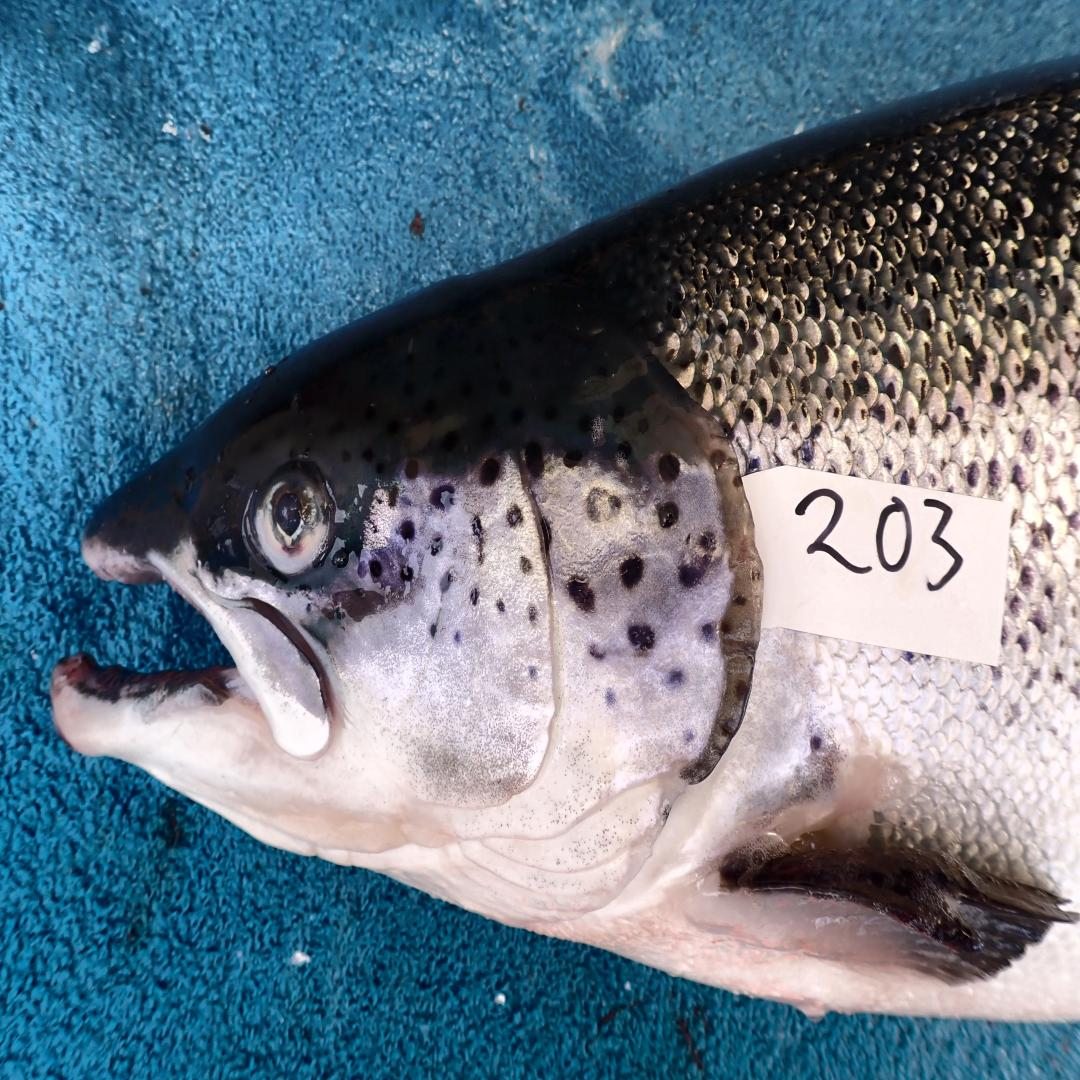spot: (586, 487, 622, 523), (567, 579, 595, 613), (626, 624, 656, 650), (620, 557, 643, 588), (525, 442, 544, 478), (658, 453, 679, 484), (471, 516, 484, 565), (479, 458, 500, 487), (430, 484, 454, 509), (679, 562, 702, 588), (658, 501, 679, 529), (506, 503, 523, 526), (542, 518, 553, 551), (399, 520, 416, 540), (563, 450, 582, 467), (589, 641, 605, 661), (699, 532, 715, 552), (405, 458, 420, 478), (387, 485, 398, 511), (736, 680, 748, 702), (369, 561, 383, 579), (700, 622, 713, 641), (669, 669, 683, 686), (681, 728, 695, 745), (430, 538, 443, 556), (441, 571, 451, 593), (401, 565, 413, 582), (521, 557, 532, 574), (527, 605, 538, 622), (605, 689, 616, 706), (721, 621, 733, 634), (470, 588, 479, 605), (496, 599, 506, 613), (429, 623, 437, 639), (528, 668, 538, 679), (732, 595, 744, 604), (454, 632, 461, 643)
